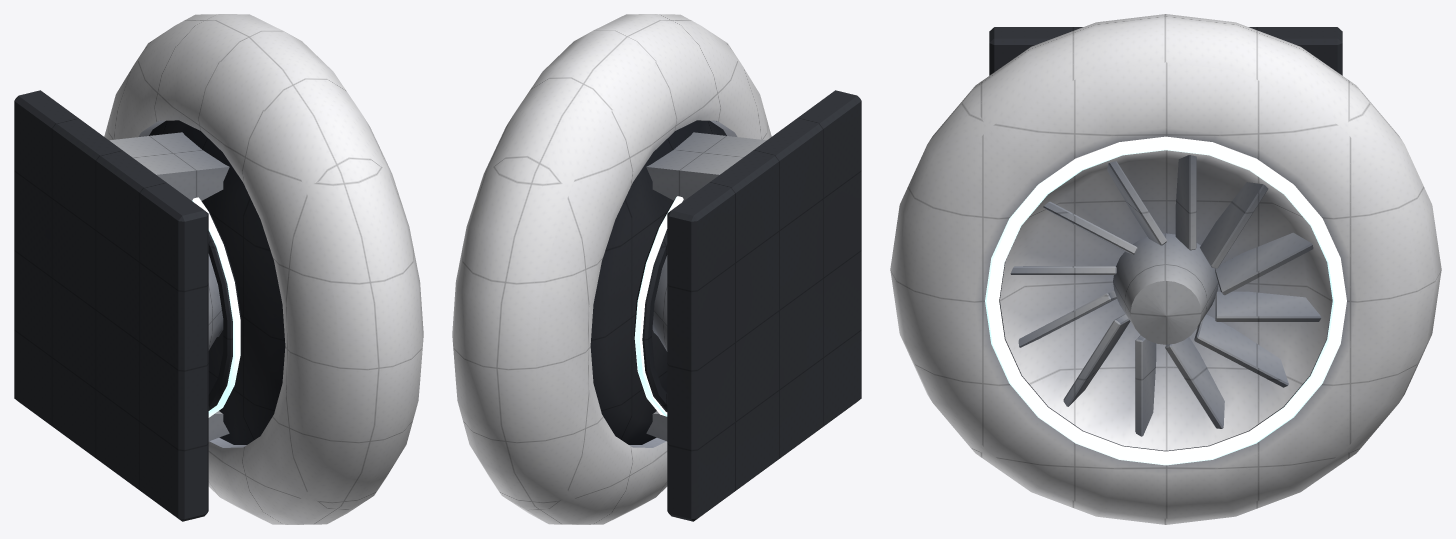
The model's file is R4M_WheelM_Side_Offroad_LOD1.glb.
3 renders of one model, left to right at view 1: azimuth 30°, elevation 25°; view 2: azimuth 150°, elevation 25°; view 3: azimuth 270°, elevation 25°, orthographic. The views are drawn at different scales.
Parts seen in each view (by area): view 1: R4M_WheelM_Side_Offroad_LOD1; view 2: R4M_WheelM_Side_Offroad_LOD1; view 3: R4M_WheelM_Side_Offroad_LOD1.
Boxes of the visible parts, bbox=[...] form: R4M_WheelM_Side_Offroad_LOD1: bbox=[14, 14, 423, 524]; R4M_WheelM_Side_Offroad_LOD1: bbox=[452, 14, 861, 524]; R4M_WheelM_Side_Offroad_LOD1: bbox=[890, 14, 1441, 524].
Size of the model in its own units: 0.437 by 0.78 by 0.78.
4 materials, 3 textured.
